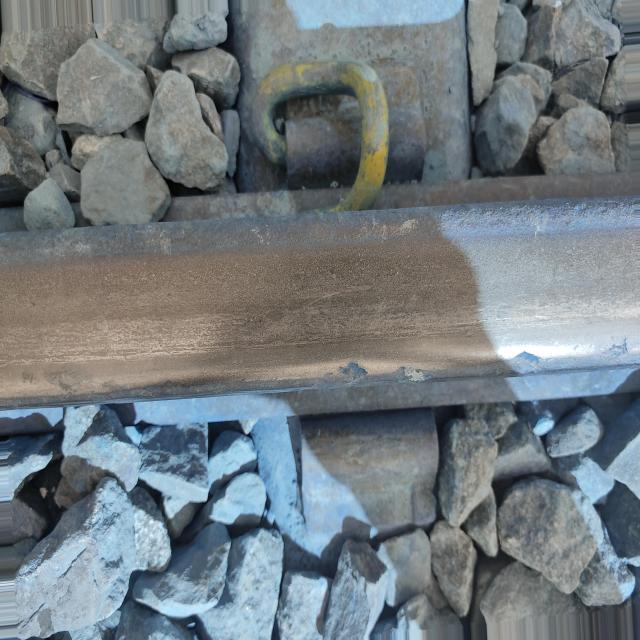Good Fasteners: (253, 60, 426, 211)
Missing Fastener: (280, 396, 480, 558)
